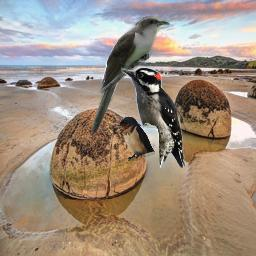Cuckoo: (88, 15, 170, 138)
Swallow: (116, 116, 155, 161)
Woodpecker: (121, 67, 186, 168)
